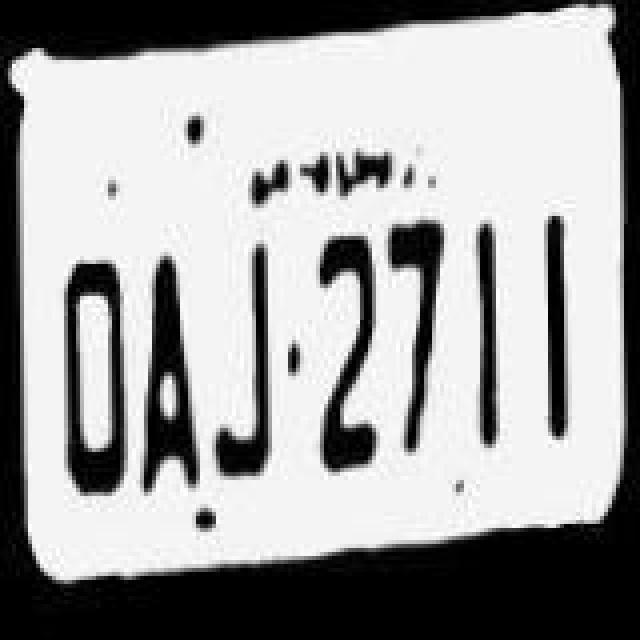1: (518, 198, 578, 450), (456, 210, 512, 470)
2: (306, 230, 382, 494)
7: (380, 216, 452, 472)
A: (132, 252, 208, 504)
J: (202, 232, 278, 504)
O: (60, 262, 136, 514)
